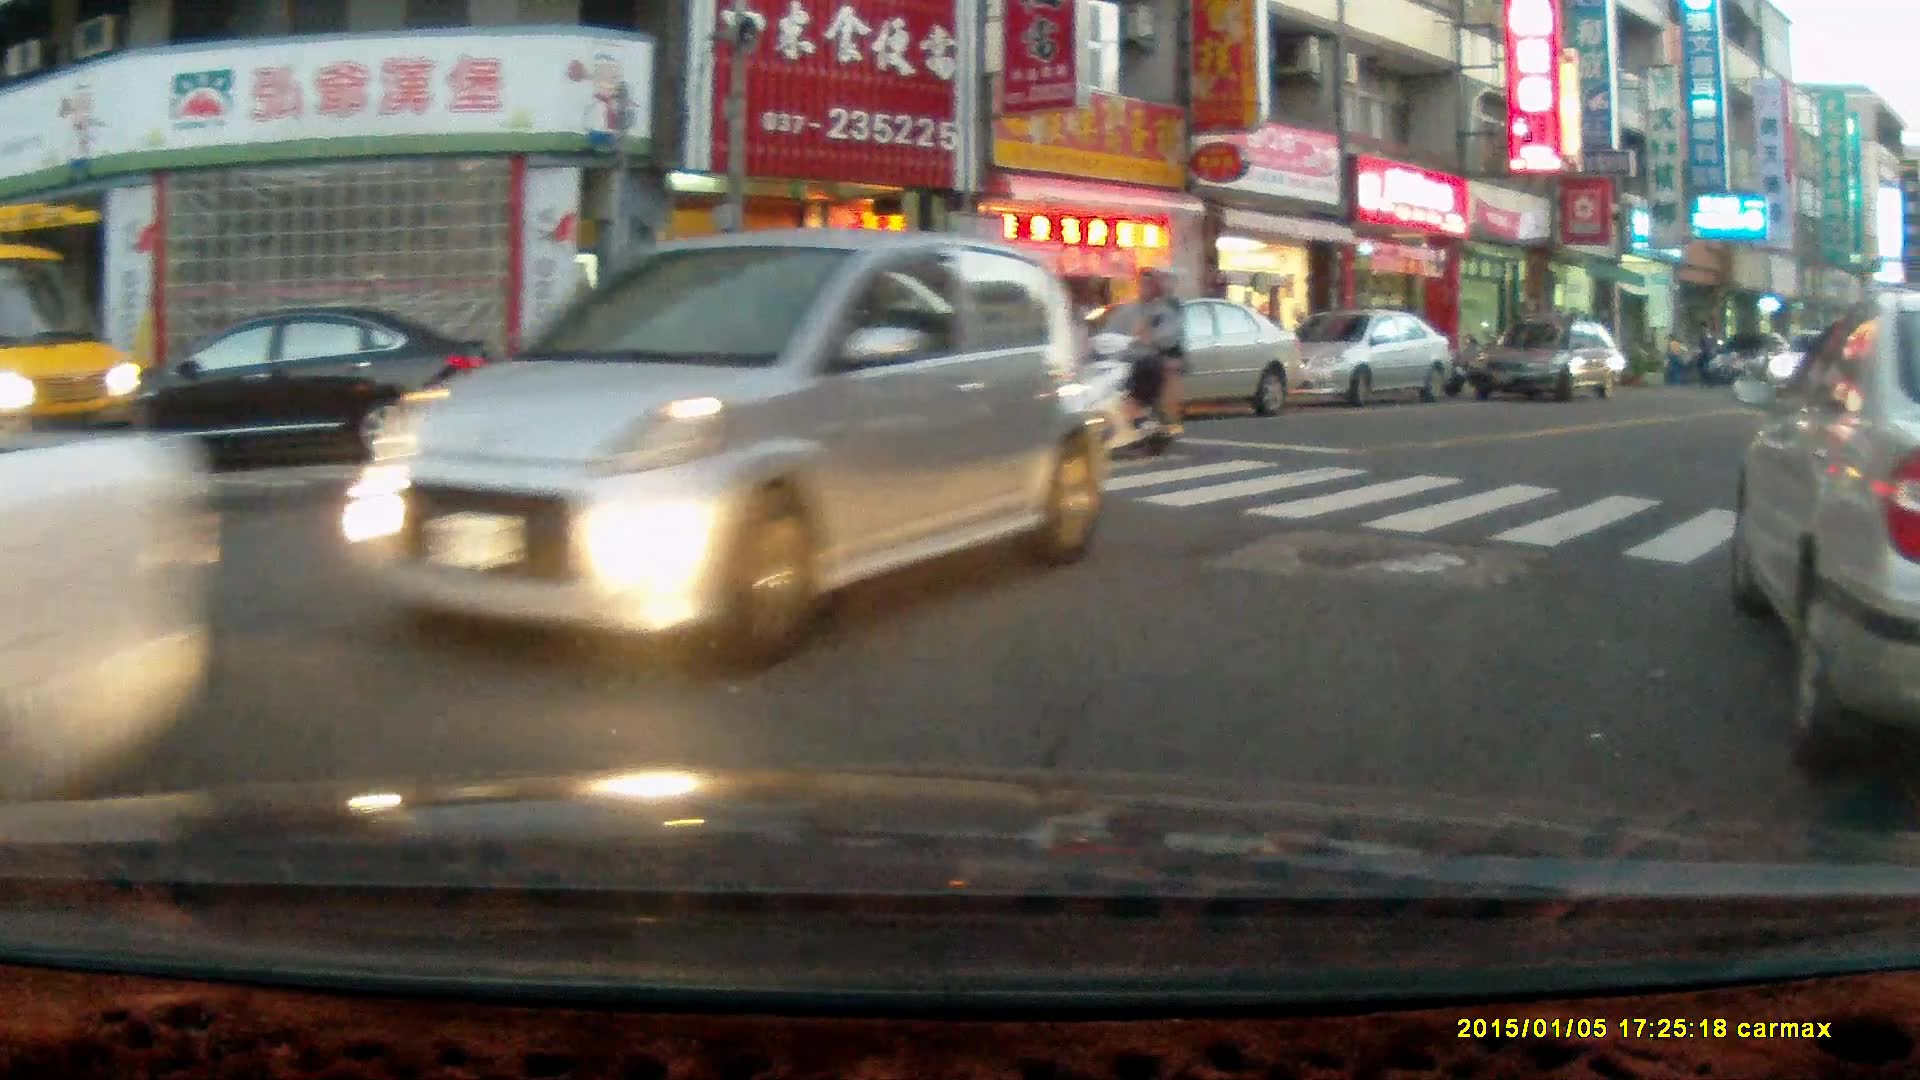rider: (1042, 260, 1185, 455)
vehicle: (341, 229, 1090, 674), (1726, 292, 1920, 778), (1, 433, 220, 801), (136, 299, 493, 461), (1109, 294, 1310, 417), (1275, 306, 1457, 401), (1467, 317, 1634, 404)
